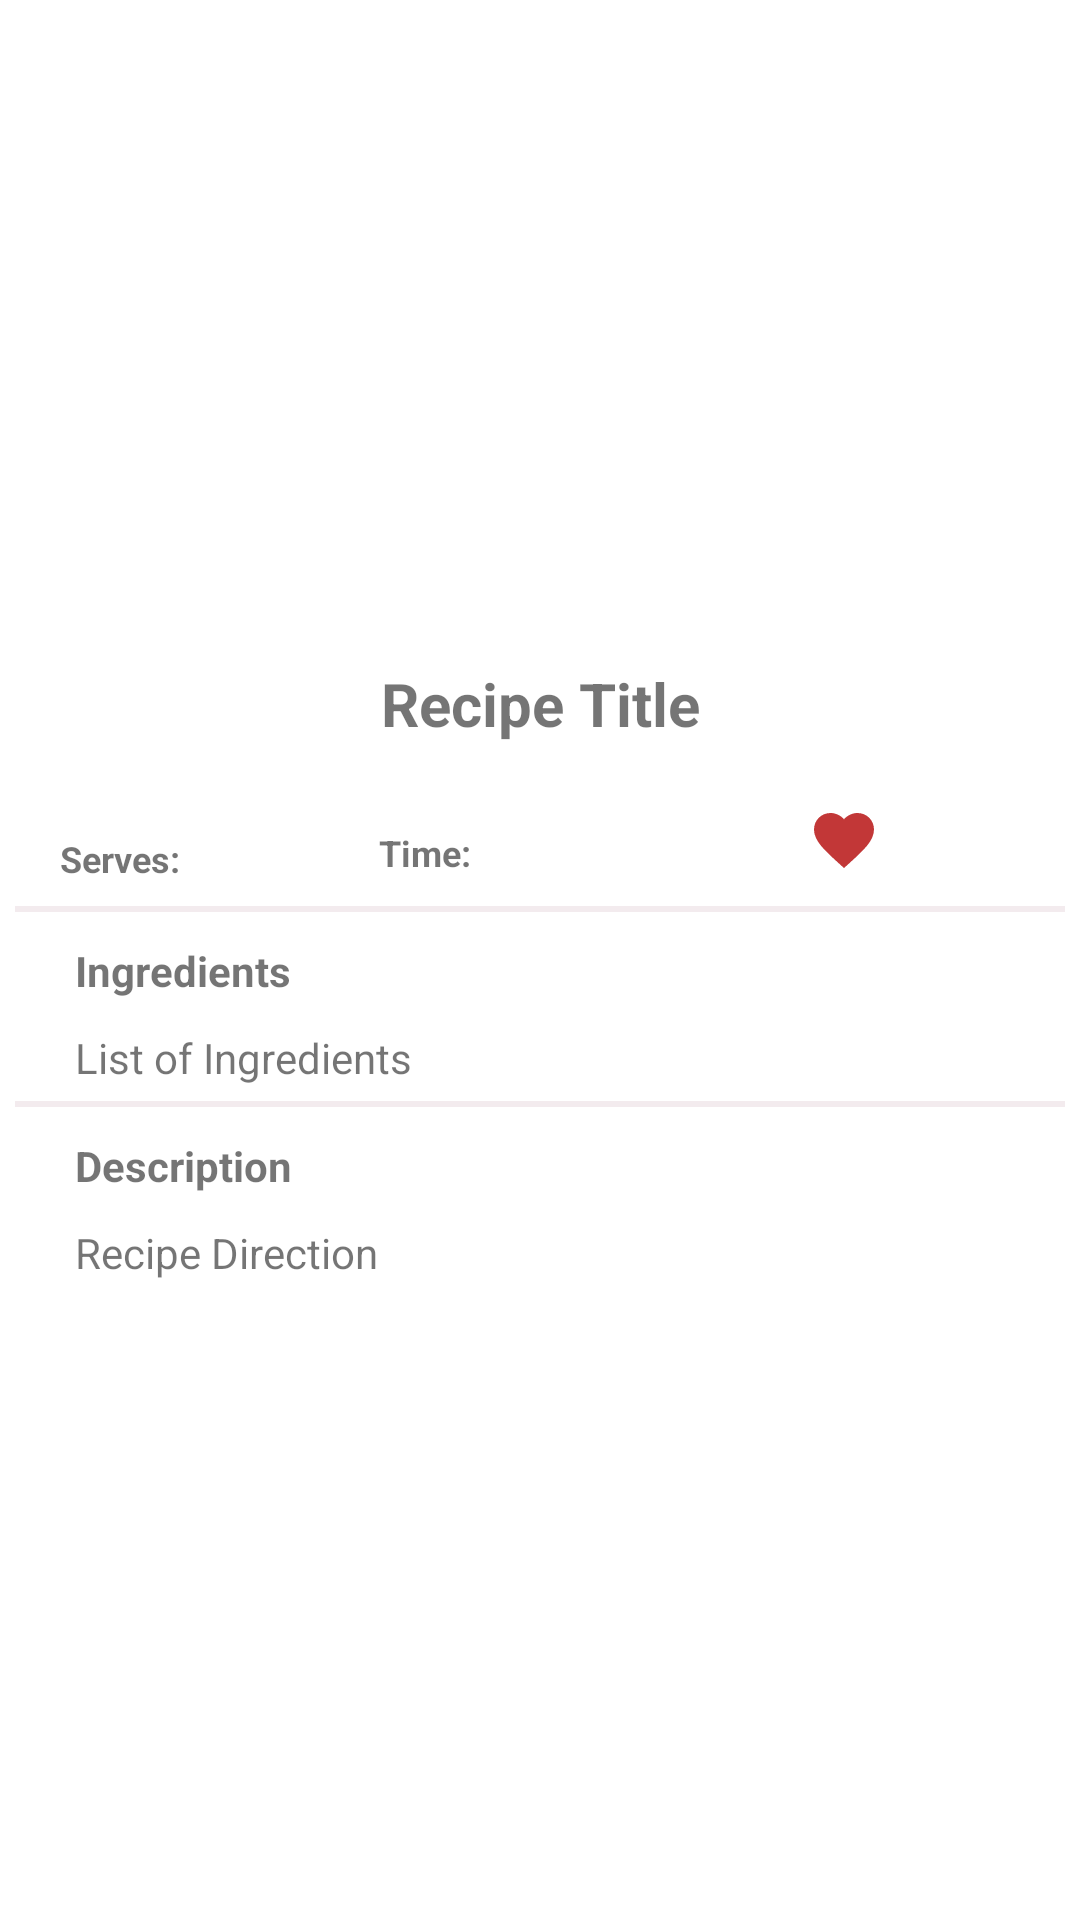

Where icons sit on this 1080 x 1920 app screen, as BBox(x1, y1, x2, y2):
favorite: BBox(814, 813, 874, 868)
